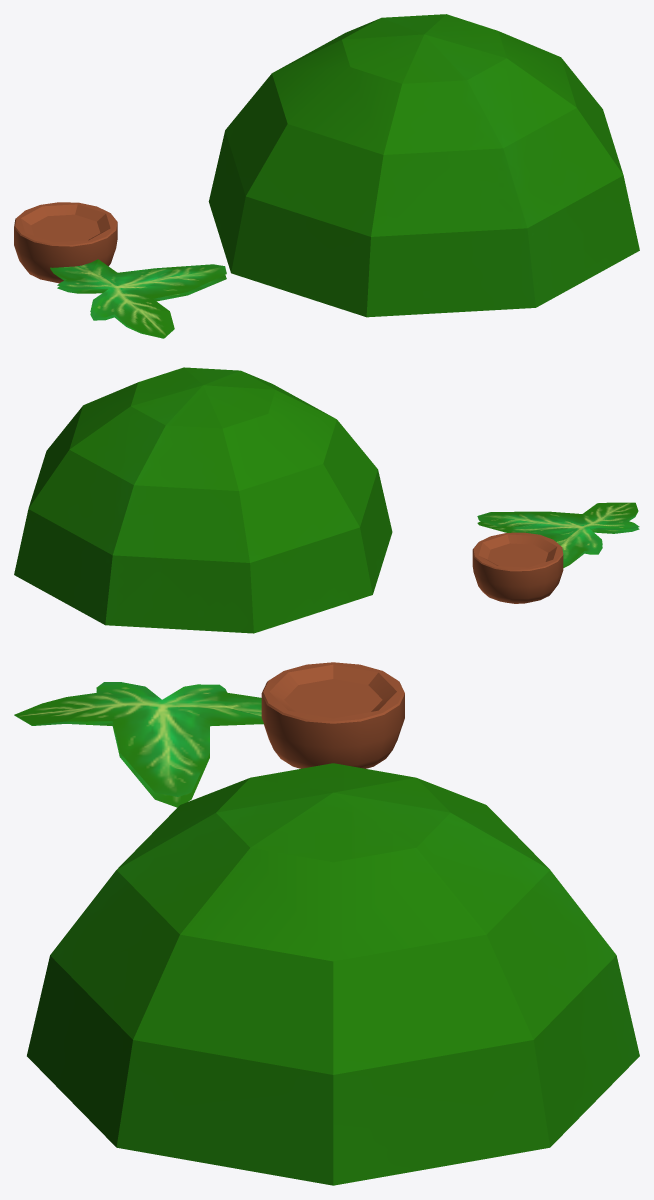
File: stylized-potted-ivy-b7442c.glb
3 views of the same model, one above another, from view 1: azimuth 30°, elevation 25°; view 2: azimuth 150°, elevation 25°; view 3: azimuth 270°, elevation 25° (orthographic). The views are drawn at different scales.
Parts seen in each view (by area): view 1: PropMesh; view 2: PropMesh; view 3: PropMesh.
Part boxes in pixels (bbox=[...]): PropMesh: bbox=[14, 14, 639, 338]; PropMesh: bbox=[14, 367, 639, 633]; PropMesh: bbox=[14, 662, 639, 1185].
Bounding box in the file's own units: 7.29 × 2.2 × 4.74.
Materials: 1 (1 with a texture image).
